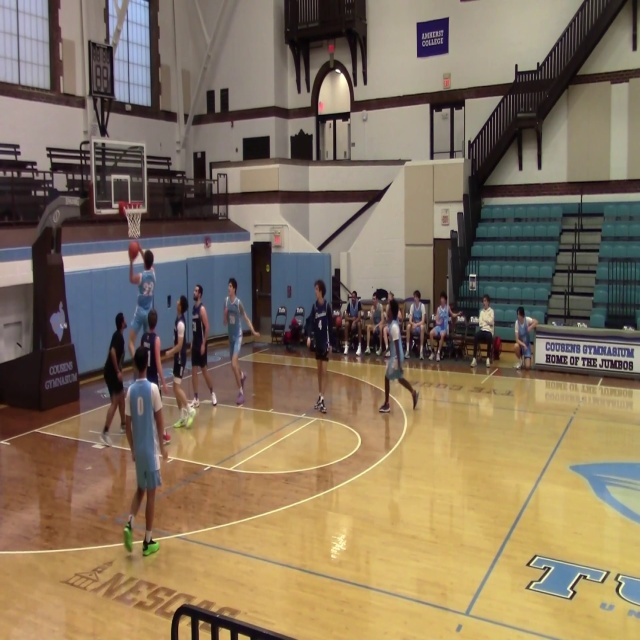Basketball: (128, 241, 140, 261), (142, 249, 154, 269), (130, 273, 141, 284), (176, 321, 184, 335), (204, 237, 211, 248)
